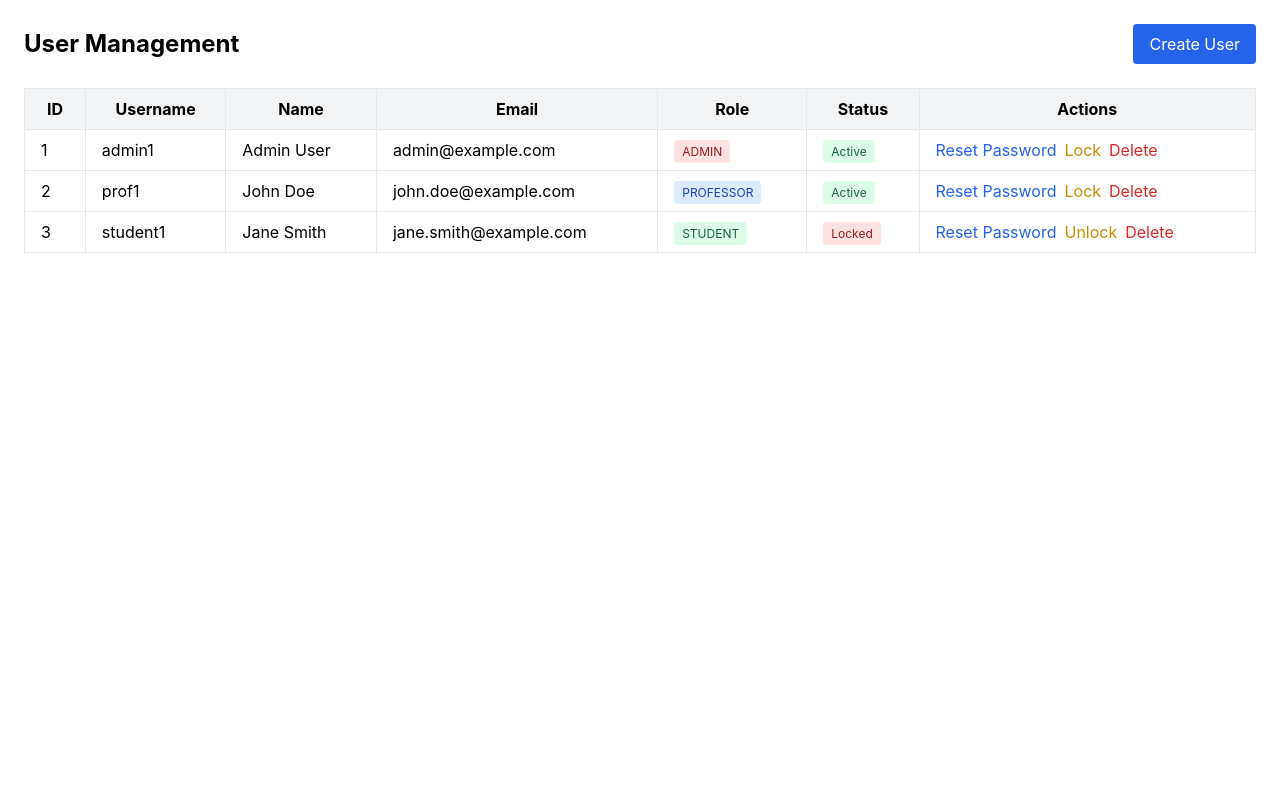
UserManagement Tests › opens create modal when Create User button is clicked
Expected: the heading "User Management" is shown, [24, 28, 239, 60]
Click the button "Create User" at (1195, 44), box [1134, 24, 1256, 64]
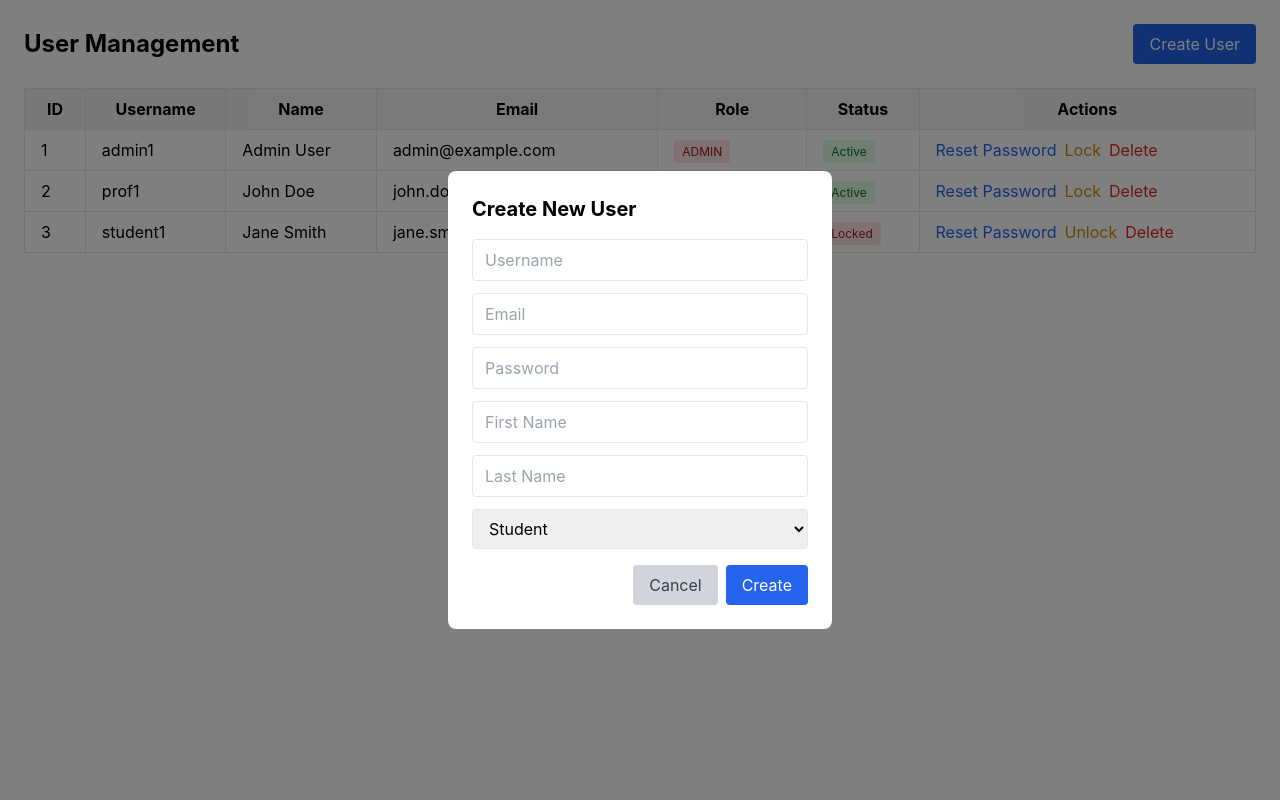
Now the heading "Create New User" is shown, box [472, 197, 636, 221]
